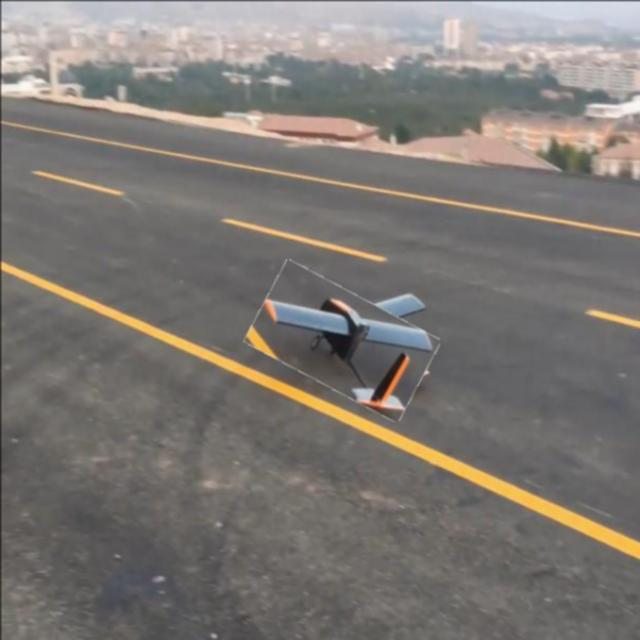plane: (241, 259, 438, 421)
